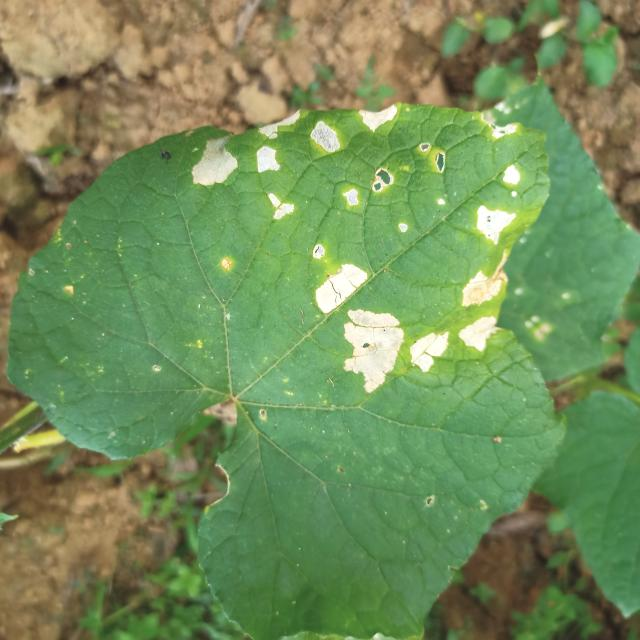disease_cucumber: (311, 263, 403, 394), (476, 163, 522, 245), (461, 268, 503, 353), (194, 129, 237, 188), (260, 116, 302, 175), (342, 169, 394, 204), (410, 331, 450, 372), (358, 105, 403, 134), (262, 190, 299, 222), (312, 121, 346, 155)
